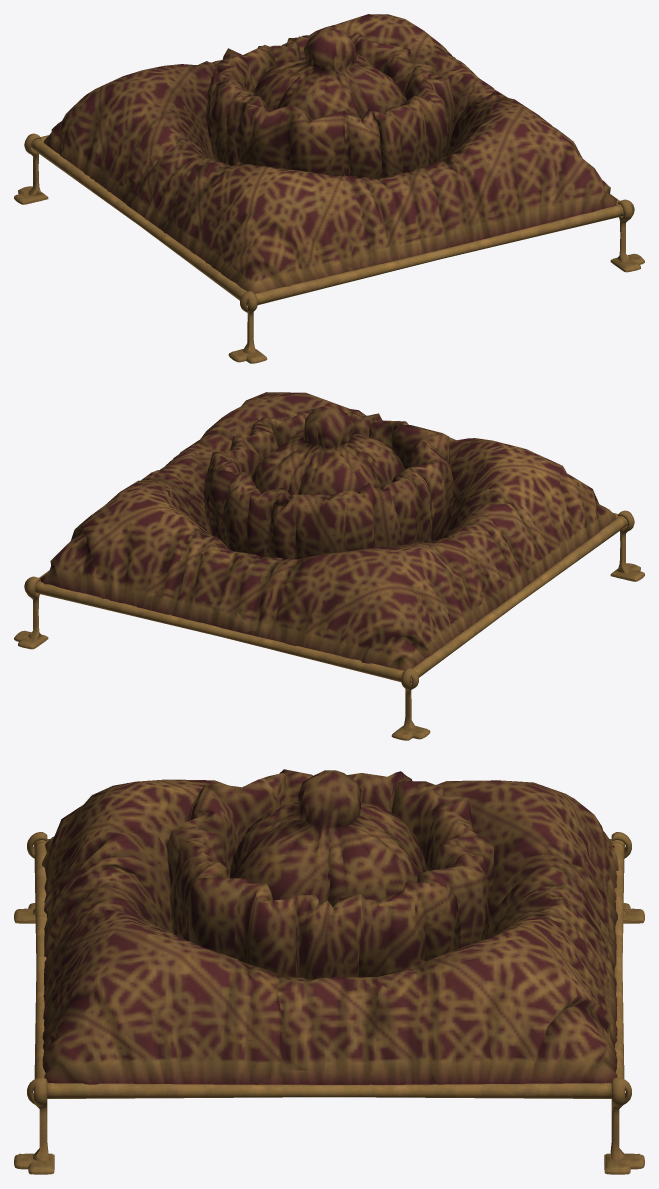
The model's file is SM_CurtainFlower_Gurad.fbx.
3 renders of one model, top to bottom at view 1: azimuth 30°, elevation 25°; view 2: azimuth 150°, elevation 25°; view 3: azimuth 270°, elevation 25°, orthographic. The views are drawn at different scales.
Visible parts, largest first — view 1: SM_CurtainFlower_Gurad_LOD0; view 2: SM_CurtainFlower_Gurad_LOD0; view 3: SM_CurtainFlower_Gurad_LOD0.
Boxes of the visible parts, x1,y1,x2,y2 form: SM_CurtainFlower_Gurad_LOD0: (14, 14, 644, 363); SM_CurtainFlower_Gurad_LOD0: (14, 392, 644, 740); SM_CurtainFlower_Gurad_LOD0: (14, 769, 644, 1174).
Bounding box in the file's own units: 211 × 210 × 99.04.
Materials: 1 (1 with a texture image).
